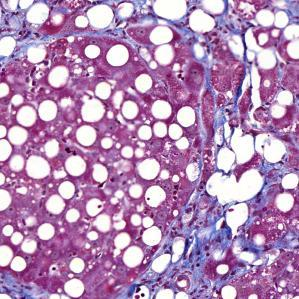fibrosis: (167, 193, 265, 286)
